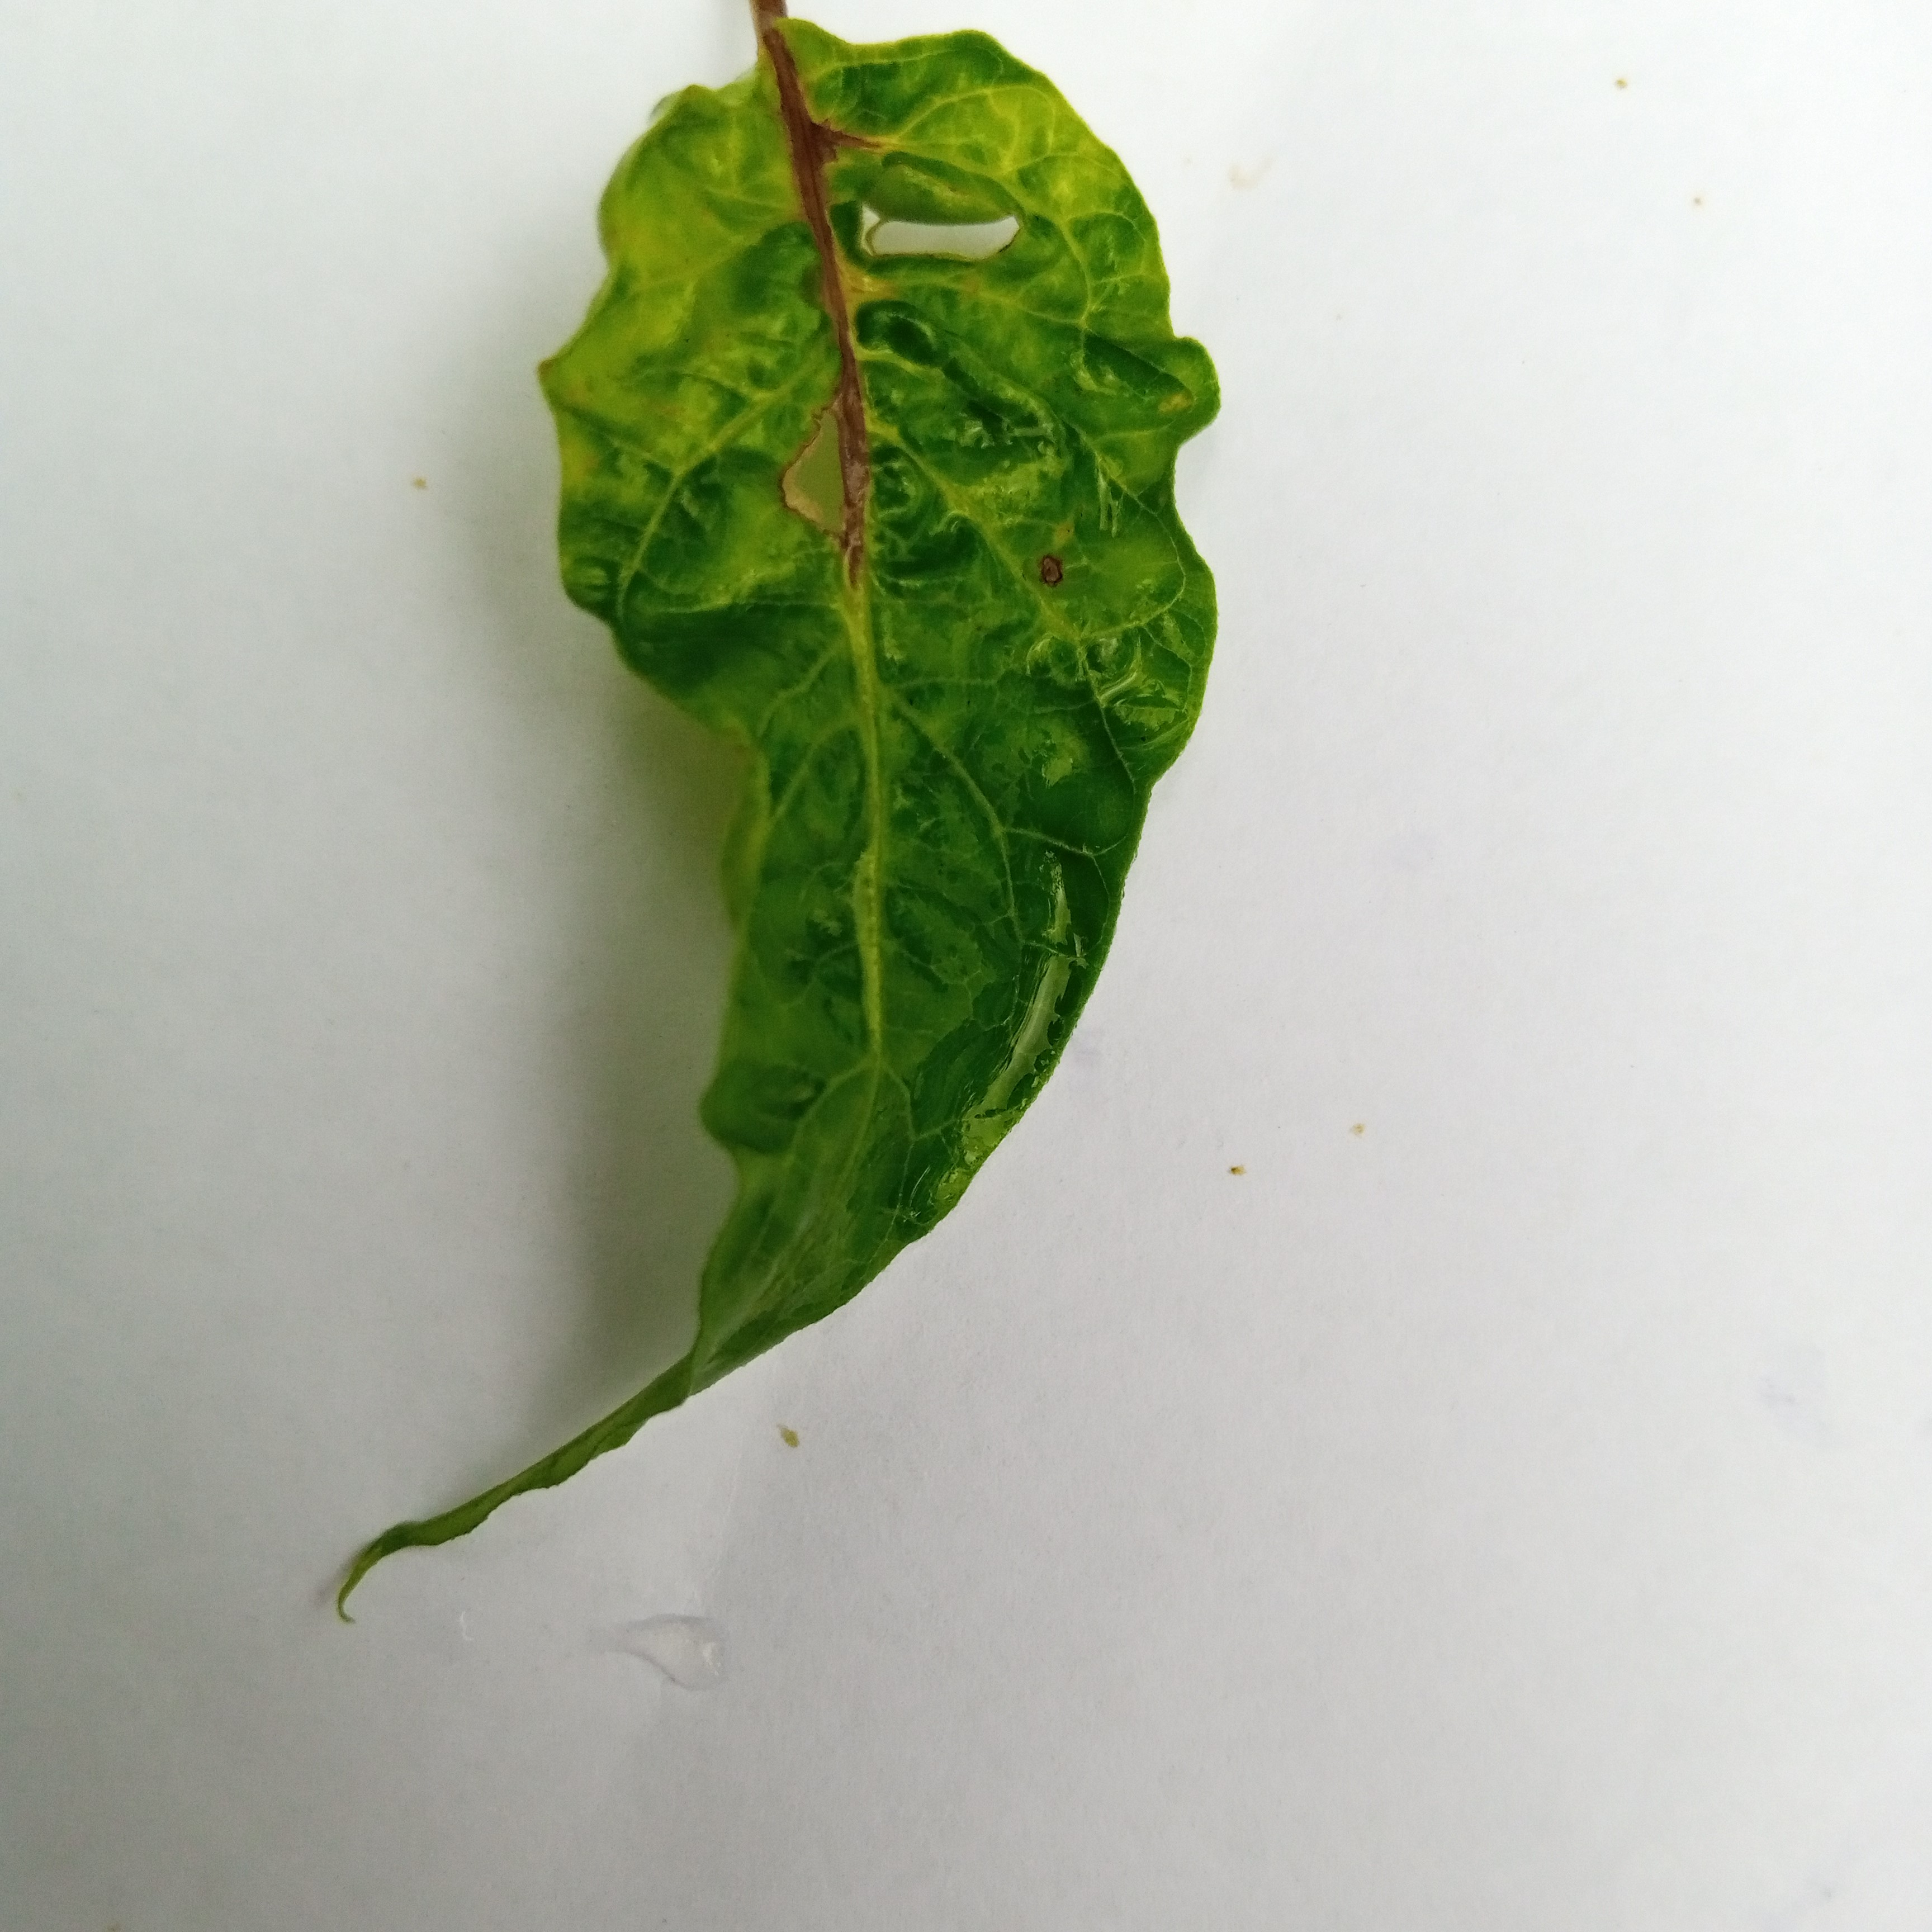Leaf: (235, 16, 1325, 1734)
